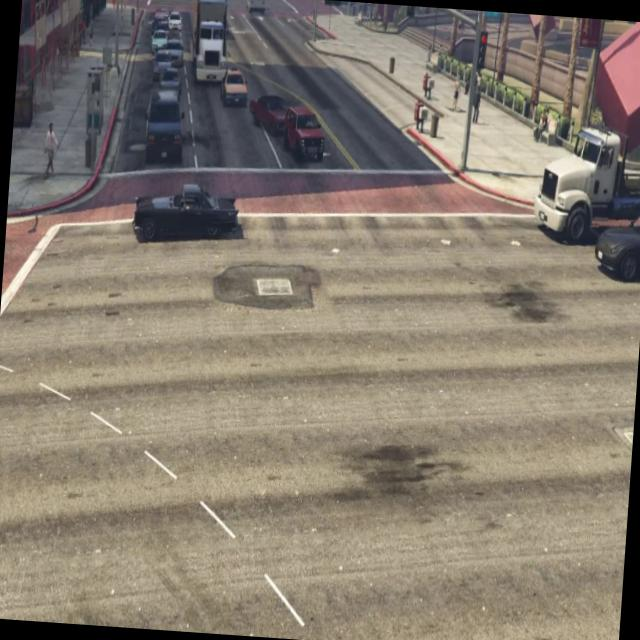Red-Signal: (474, 11, 494, 75), (403, 6, 425, 40), (318, 0, 345, 22)
